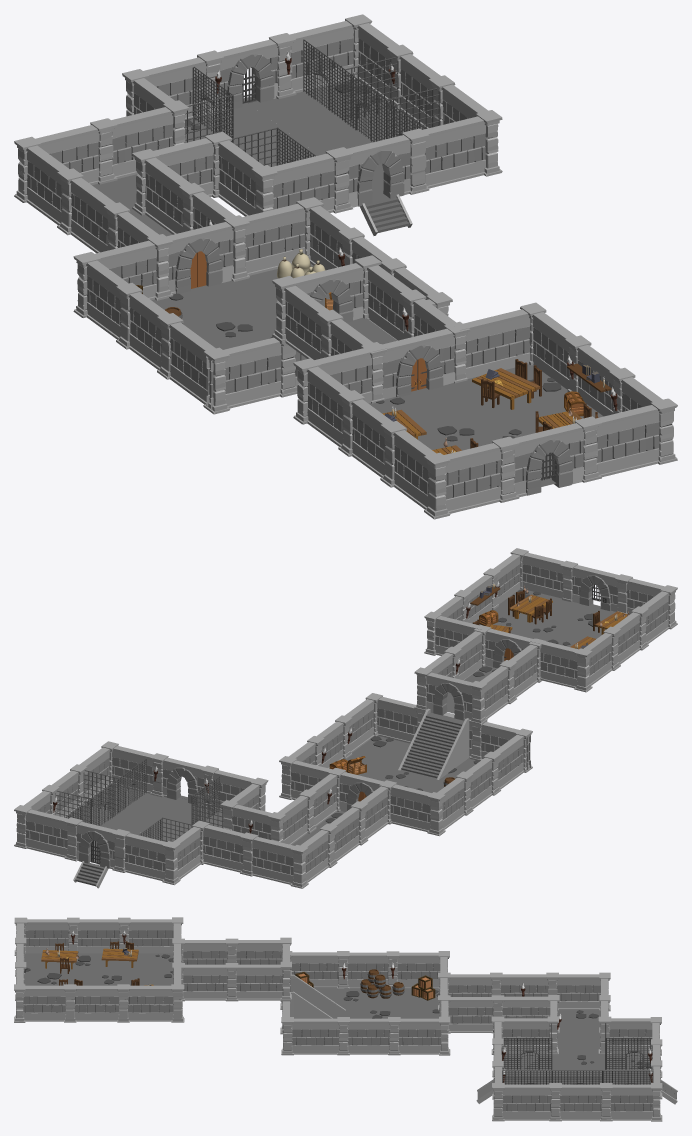
Rendered from Demo.fbx.
3 views of the same model, one above another, from view 1: azimuth 30°, elevation 25°; view 2: azimuth 150°, elevation 25°; view 3: azimuth 270°, elevation 25° (orthographic). The views are drawn at different scales.
Visible parts, largest first — view 1: Floor.006, Walls.038, Walls.024, Walls.010, Floor.003, Walls.021, Walls.006, Walls.003, Walls.049, Walls.001, Walls.008, Walls.004 (+53 smaller); view 2: stairs.001, Floor.008, Walls.015, Walls.002, Walls.022, Walls.001, Walls.043, Walls.006, Floor.002, Walls.010, Floor.012, Walls.008 (+49 smaller); view 3: Walls.012, Floor.005, Floor.001, Walls.033, Walls.026, Walls.041, Walls.040, Floor.004, Walls.039, Walls.020, Walls.007, Walls.013 (+36 smaller).
Boxes of the visible parts, <box> form: Floor.006: <box>248,80,421,152</box>; Walls.038: <box>596,398,677,477</box>; Walls.024: <box>206,336,297,410</box>; Walls.010: <box>347,128,429,207</box>; Floor.003: <box>423,364,593,435</box>; Walls.021: <box>242,197,323,275</box>; Walls.006: <box>90,107,173,184</box>; Walls.003: <box>271,147,352,213</box>; Walls.049: <box>513,423,584,497</box>; Walls.001: <box>290,14,372,93</box>; Walls.008: <box>197,39,278,116</box>; Walls.004: <box>423,116,486,188</box>; stairs.001: <box>398,708,469,779</box>; Floor.008: <box>74,785,184,829</box>; Walls.015: <box>251,836,308,888</box>; Walls.002: <box>124,833,180,885</box>; Walls.022: <box>390,784,445,836</box>; Walls.001: <box>14,805,68,857</box>; Walls.043: <box>530,638,592,692</box>; Walls.006: <box>203,825,258,876</box>; Floor.002: <box>491,589,593,636</box>; Walls.010: <box>150,753,204,805</box>; Floor.012: <box>346,736,416,783</box>; Walls.008: <box>76,821,130,872</box>; Walls.012: <box>492,1083,551,1121</box>; Floor.005: <box>573,1054,652,1084</box>; Floor.001: <box>99,953,173,985</box>; Walls.033: <box>281,1017,339,1055</box>; Walls.026: <box>225,963,282,1001</box>; Walls.041: <box>127,984,184,1022</box>; Walls.040: <box>74,984,129,1022</box>; Floor.004: <box>24,953,99,985</box>; Walls.039: <box>23,984,76,1022</box>; Walls.020: <box>388,1017,440,1055</box>; Walls.007: <box>600,1083,652,1121</box>; Walls.013: <box>337,1017,389,1055</box>.
Bounding box in the file's own units: 25.2 × 6.85 × 51.43.
